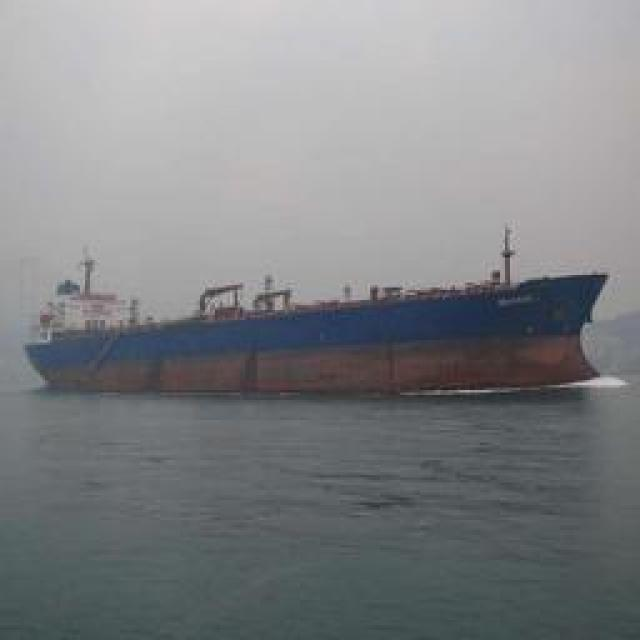CIV_Ship: (10, 252, 628, 390)
